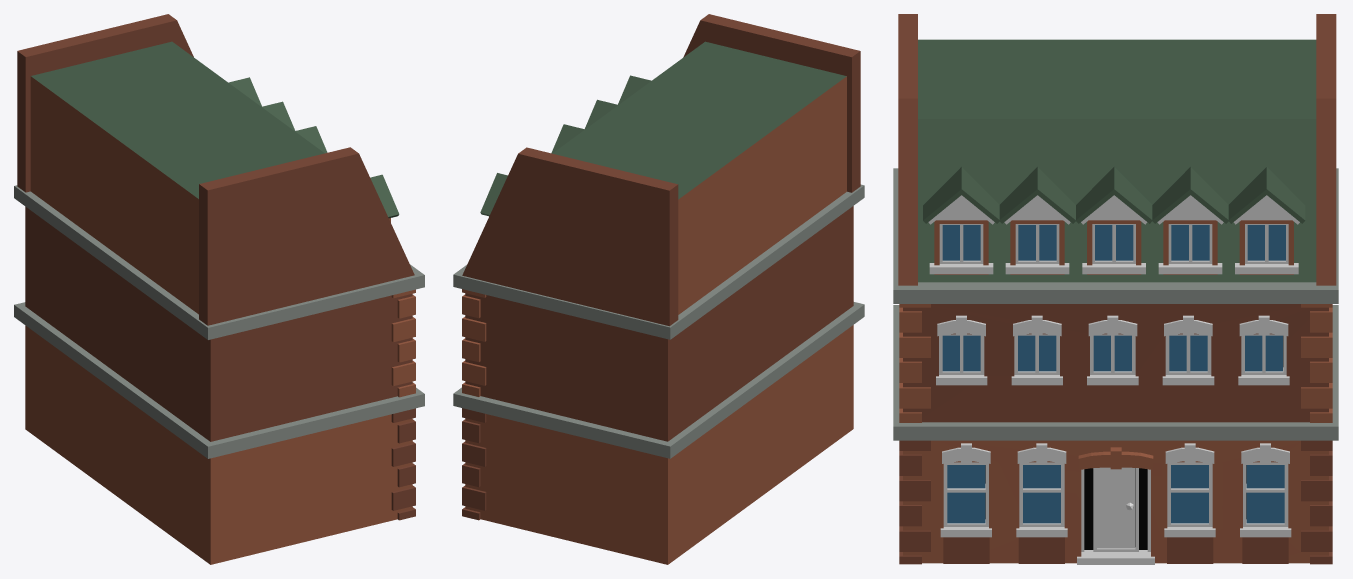
Rendered from House3.gltf.
3 views of the same model, side by side, from view 1: azimuth 30°, elevation 25°; view 2: azimuth 150°, elevation 25°; view 3: azimuth 270°, elevation 25° (orthographic). The views are drawn at different scales.
Parts seen in each view (by area): view 1: House3; view 2: House3; view 3: House3.
Boxes of the visible parts, x1,y1,x2,y2 form: House3: (14, 14, 424, 564); House3: (453, 14, 864, 564); House3: (893, 14, 1338, 564).
Size of the model in its own units: 6.54 by 10.88 by 10.14.
2 materials, 1 textured.
